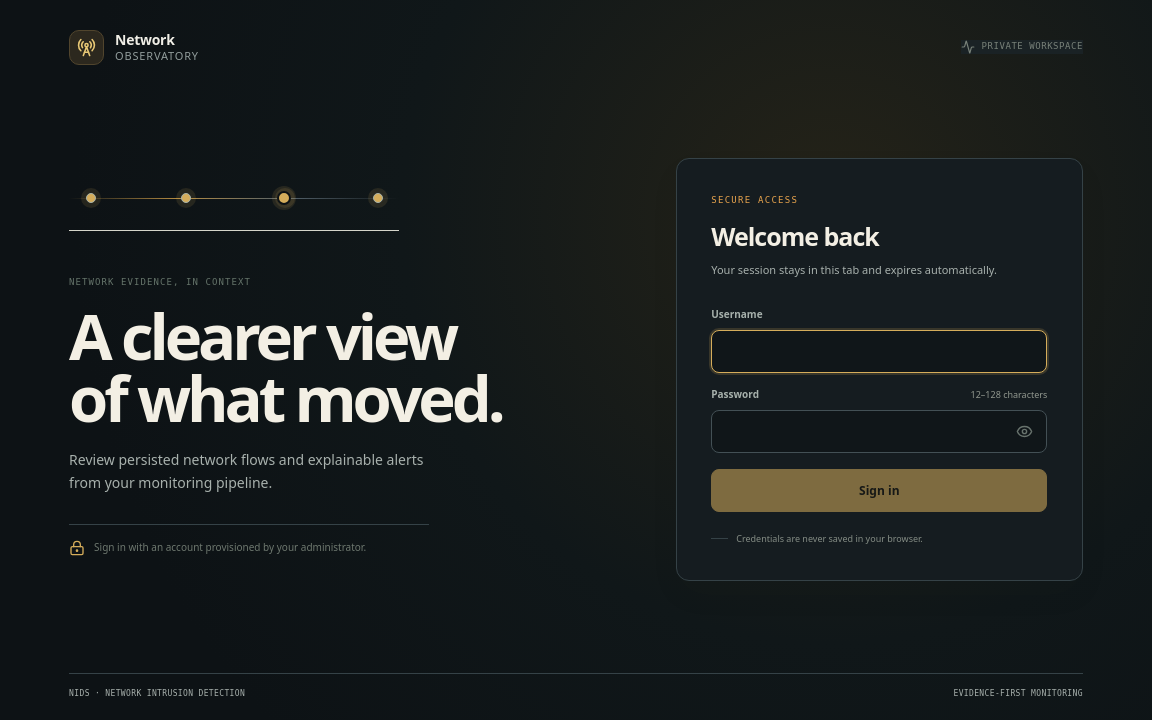
Test: sign-in › keeps the username and explains invalid credentials
Type "analyst.one" into the field labelled "Username".
click(879, 352); type("analyst.one")  # box x1=711 y1=330 x2=1047 y2=373
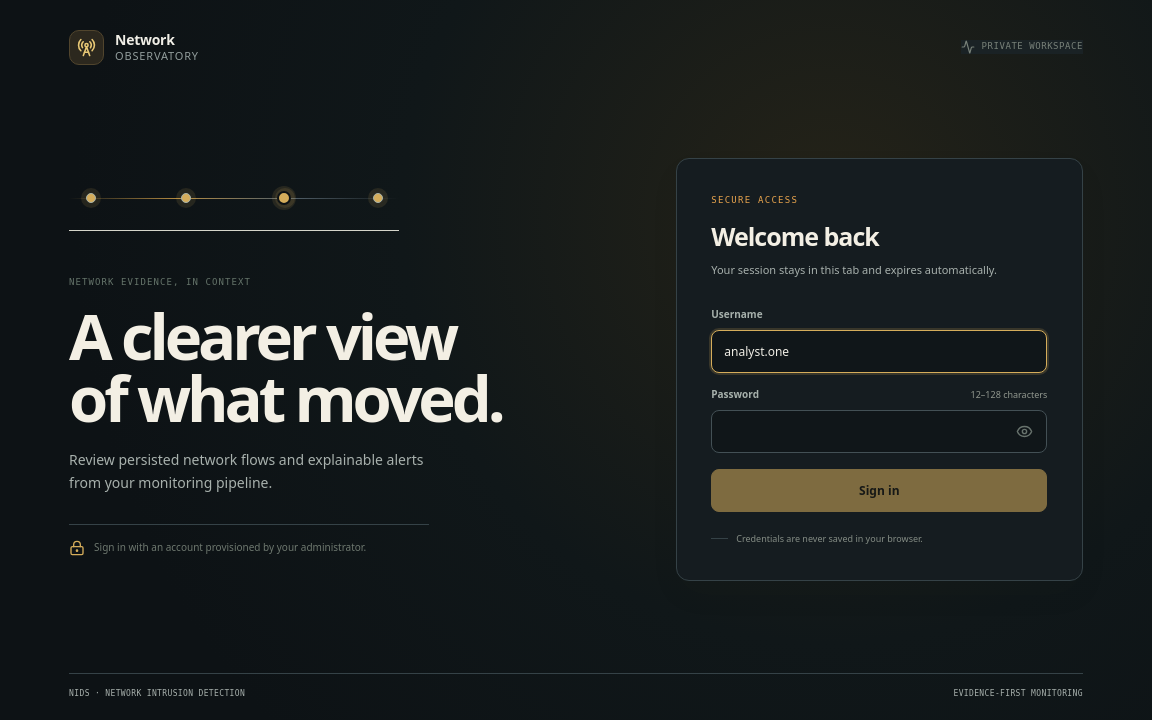
Type "not-the-password" into the password field labelled "Password".
click(879, 432); type("not-the-password")  # box x1=711 y1=410 x2=1047 y2=453
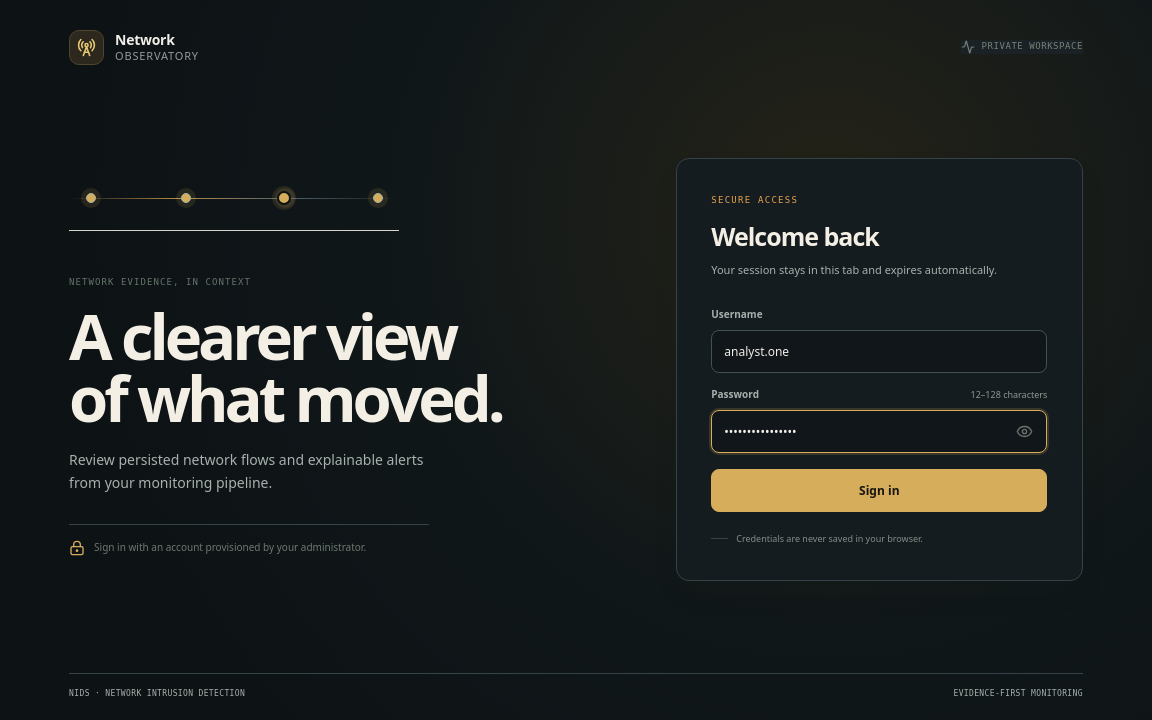
Click the button "Sign in".
click(879, 490)  # box x1=711 y1=469 x2=1047 y2=512
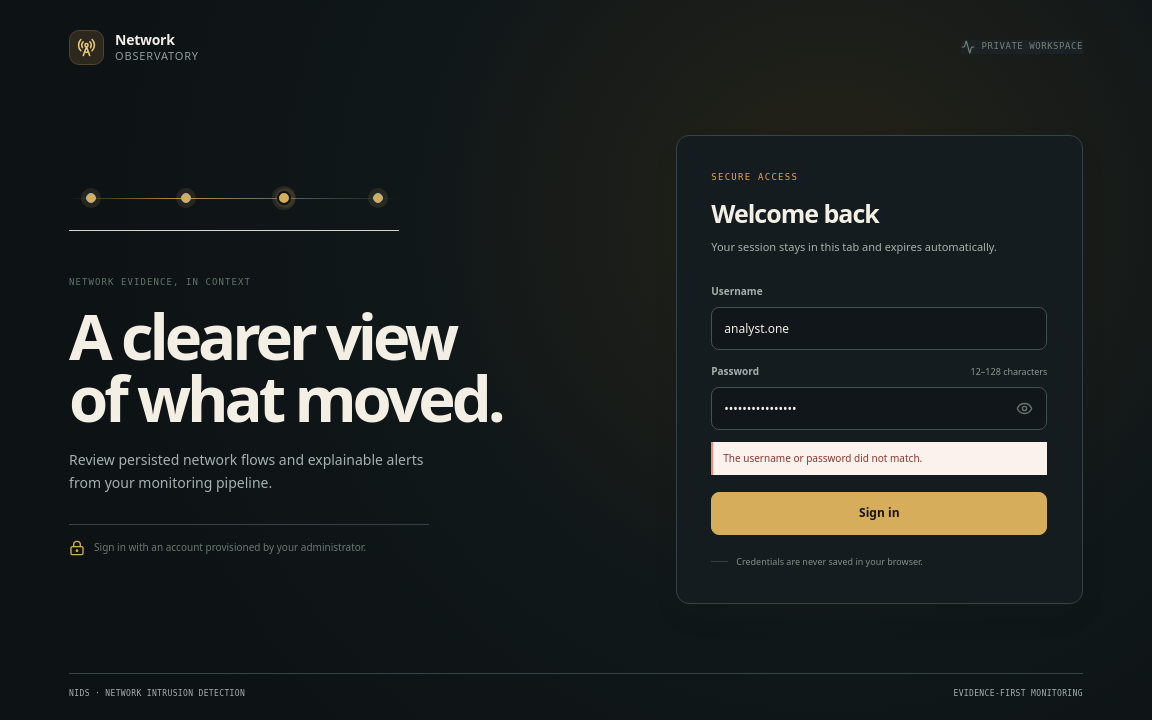
Result: the message reads "The username or password did not match." at x1=723 y1=451 x2=922 y2=465
